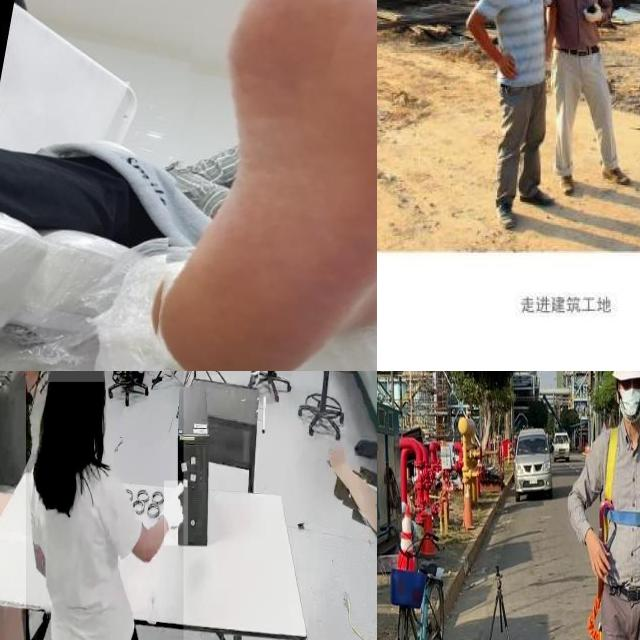Barefoots: (153, 0, 377, 371)
Harness: (600, 428, 640, 541)
hand_glove: (164, 480, 188, 546)
hand_noglove: (495, 48, 522, 83)
head_nohelmet: (47, 371, 104, 382)
person: (26, 371, 184, 640), (471, 0, 552, 231), (540, 0, 634, 195)
shoes: (493, 195, 522, 234), (517, 181, 554, 208), (599, 162, 631, 189), (555, 169, 581, 199)
